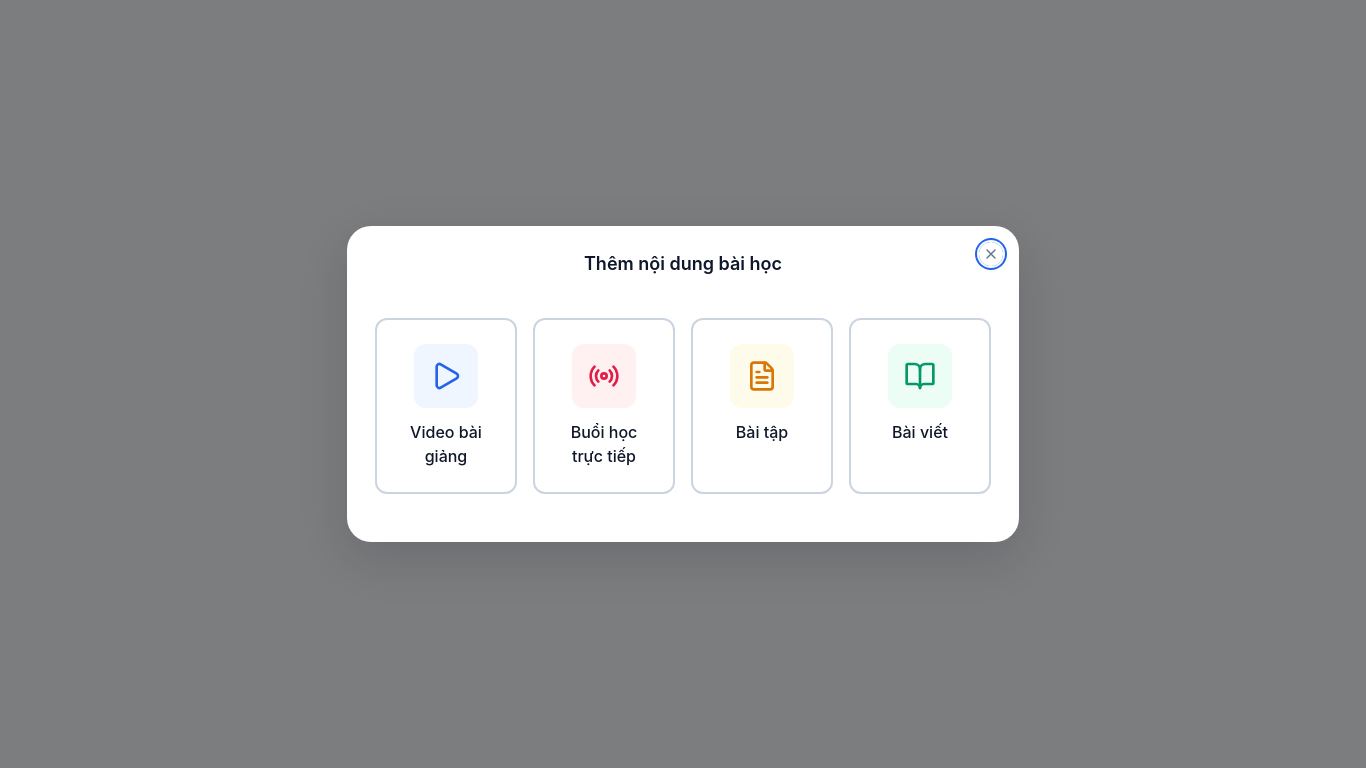
AddContentModal — câu trắc nghiệm phải có đáp án đúng (T3) › quiz kèm video (tab Quiz): câu thiếu đáp án đúng chặn gửi và đưa giáo viên tới tab Quiz
Click the button "Video bài giảng" at (446, 406), box left=375, top=318, right=517, bottom=494
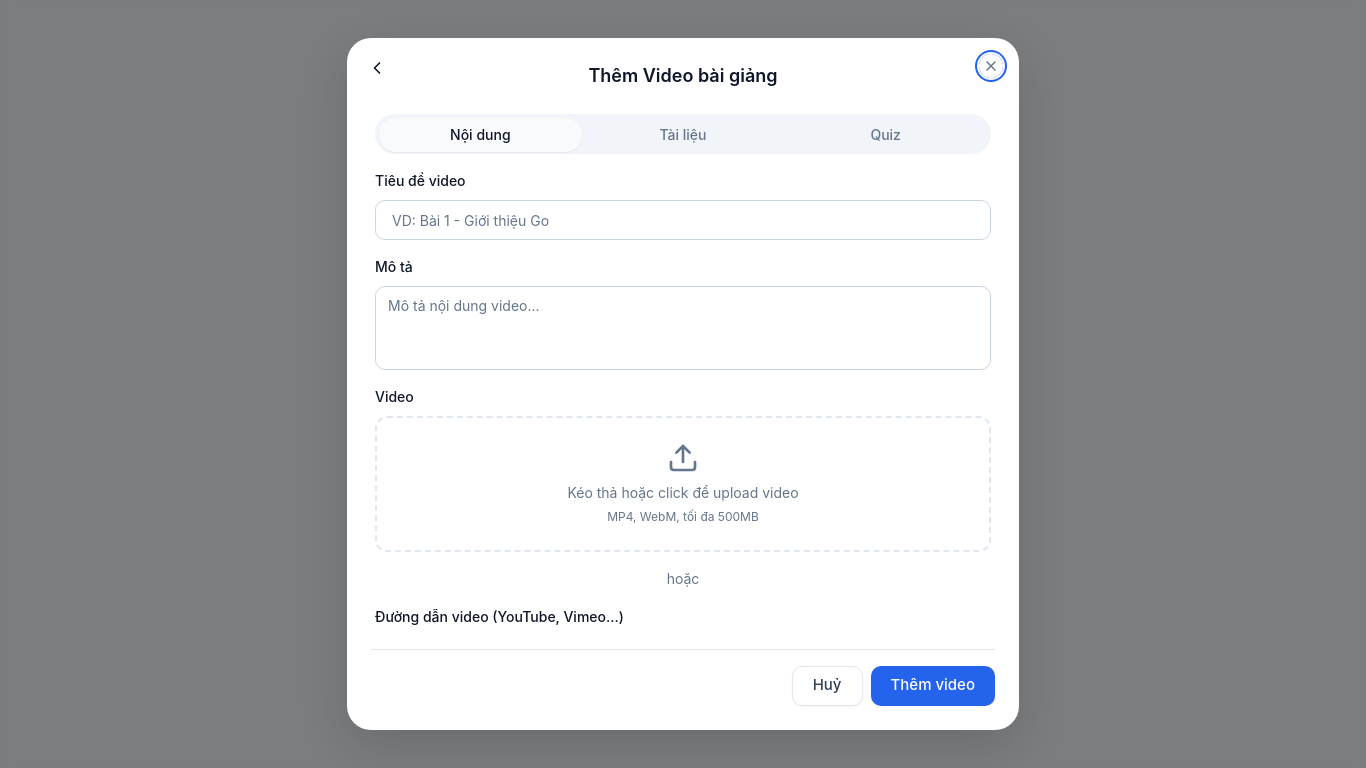
Type "Bài 1" into the field labelled "Tiêu đề video" at (683, 220), box left=375, top=200, right=991, bottom=240
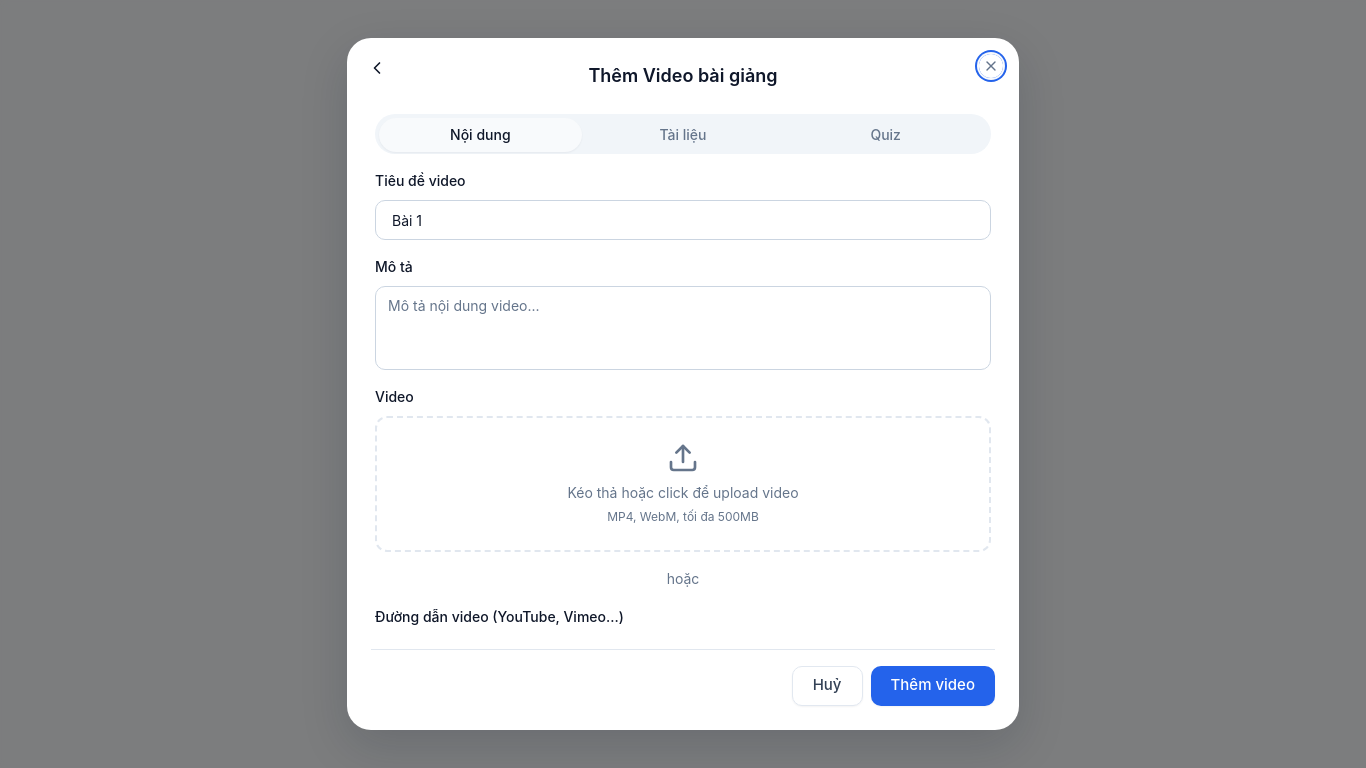
Click the tab "Quiz" at (886, 135), box left=784, top=118, right=987, bottom=152
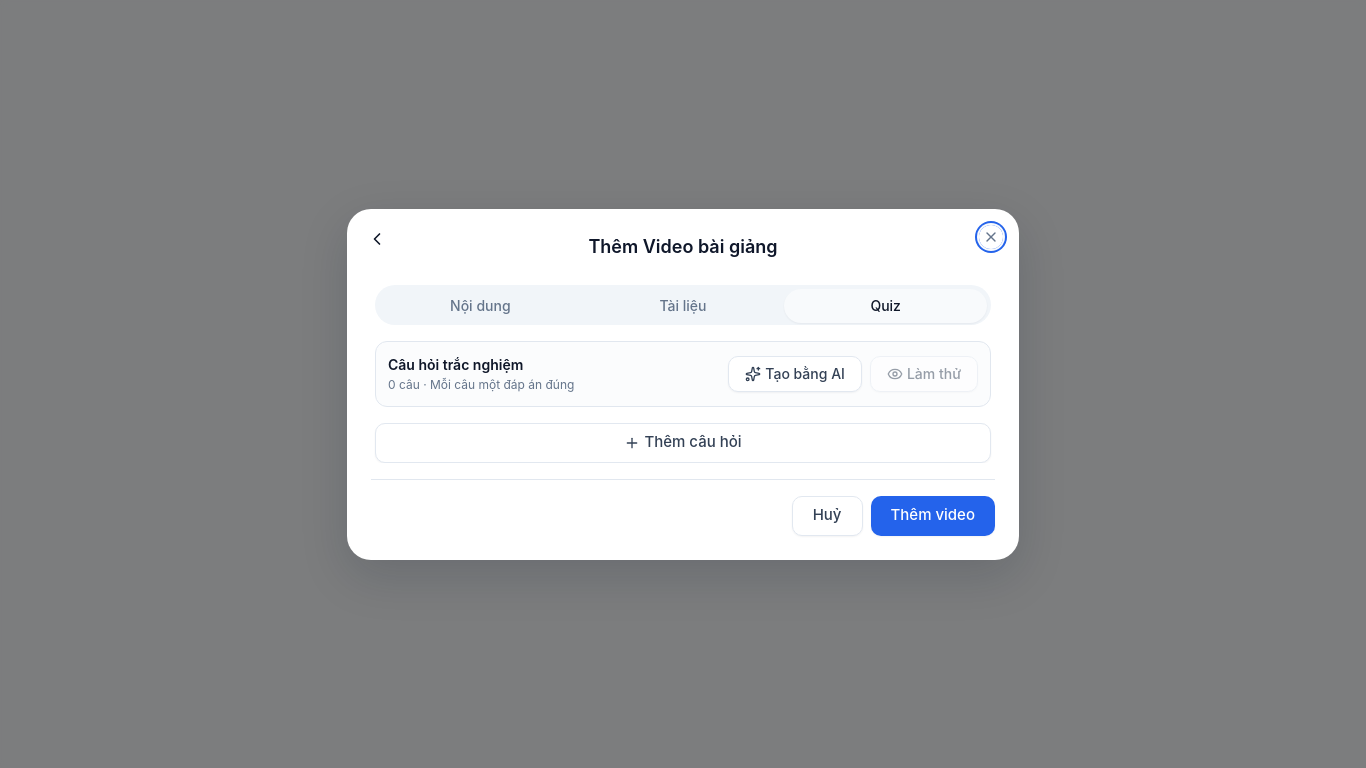
Click the button "Thêm câu hỏi" at (683, 442), box left=375, top=422, right=991, bottom=462
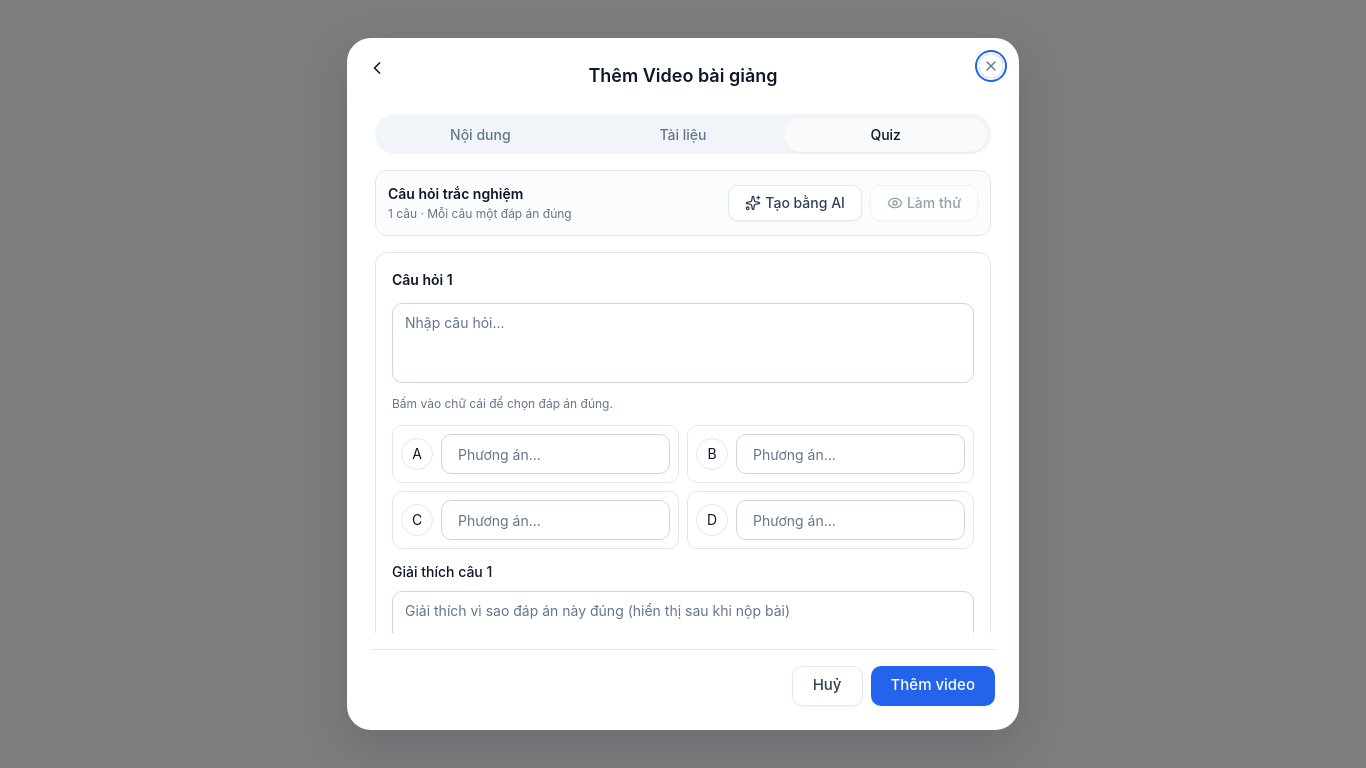
Click the tab "Nội dung" at (480, 135), box left=379, top=118, right=582, bottom=152
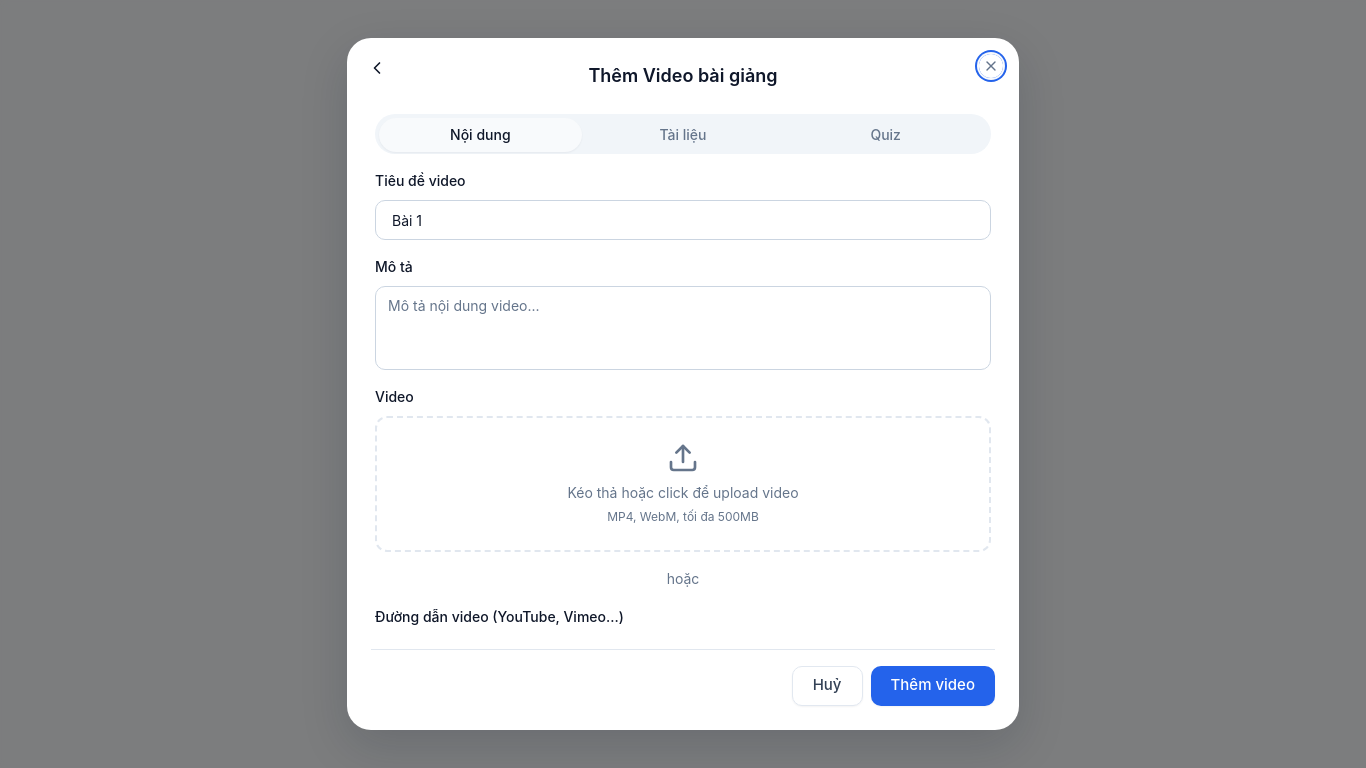
Click the button "Thêm video" at (933, 686), box left=870, top=666, right=995, bottom=706
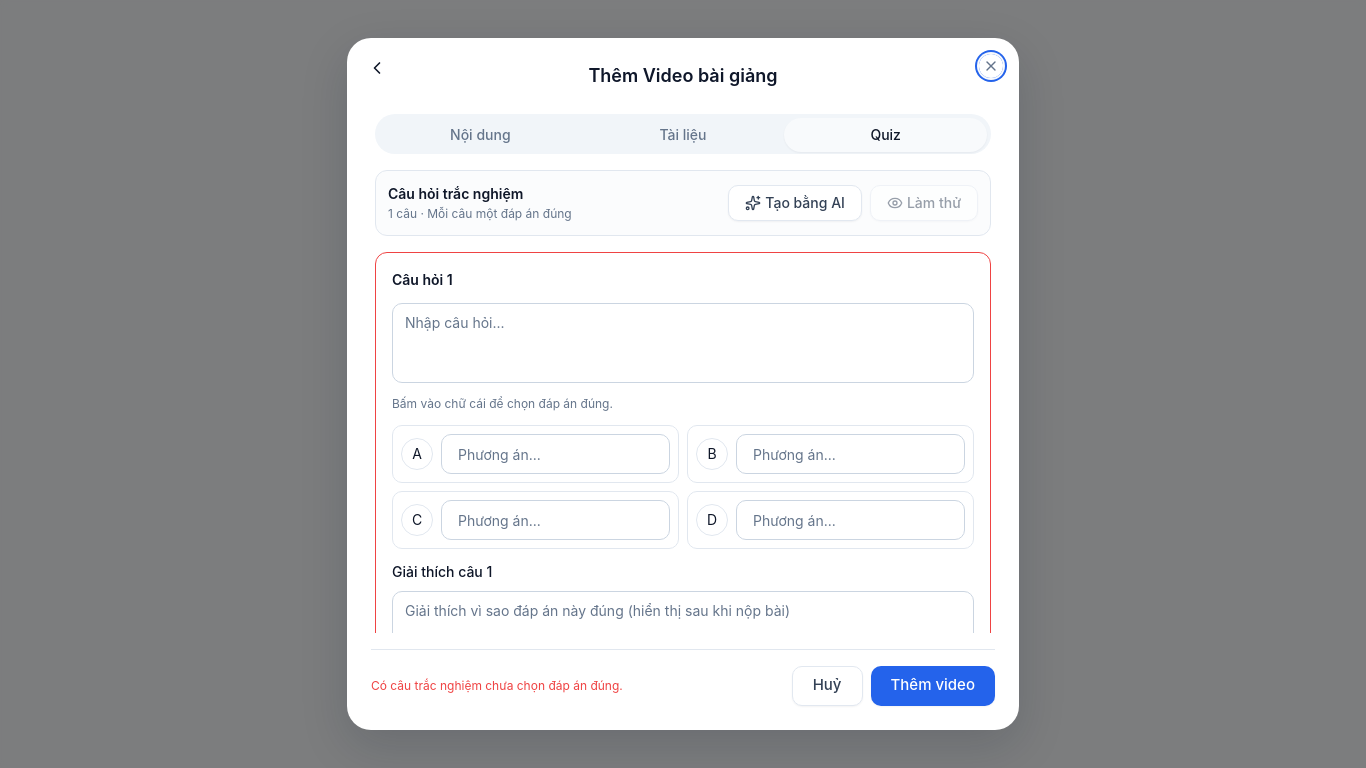
Now the message with test id "add-content-validation-error" shows "chưa chọn đáp án đúng", box left=371, top=678, right=623, bottom=693
Now the element with test id "quiz-question-0" is shown, box left=375, top=252, right=991, bottom=633
